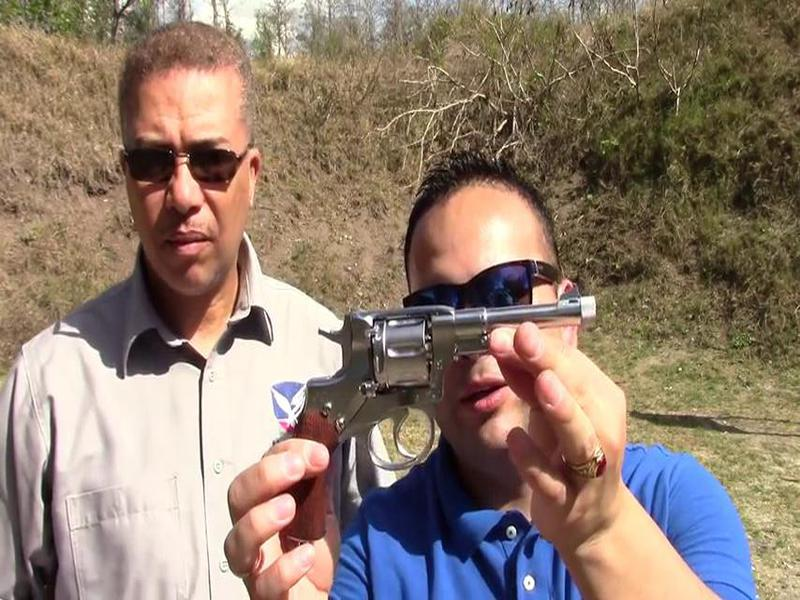Revolver: (247, 271, 607, 544)
